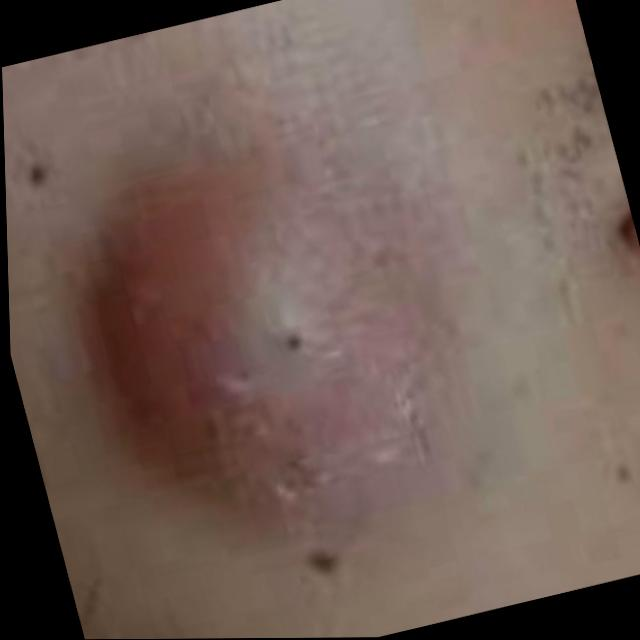nodule: (78, 106, 495, 523)
